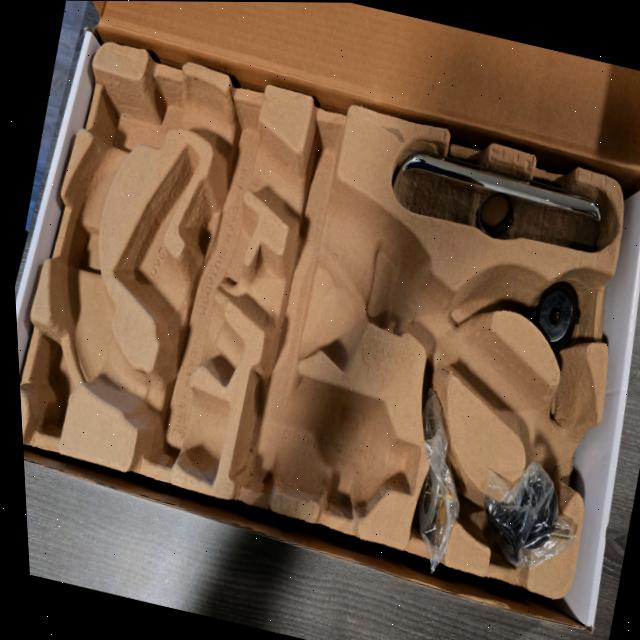1m: (48, 75, 598, 495)
2m: (114, 147, 245, 386)
3m: (229, 368, 423, 510)
4: (392, 147, 602, 244)
5: (536, 281, 582, 347)
6: (417, 387, 461, 577)
7: (485, 460, 579, 569)
